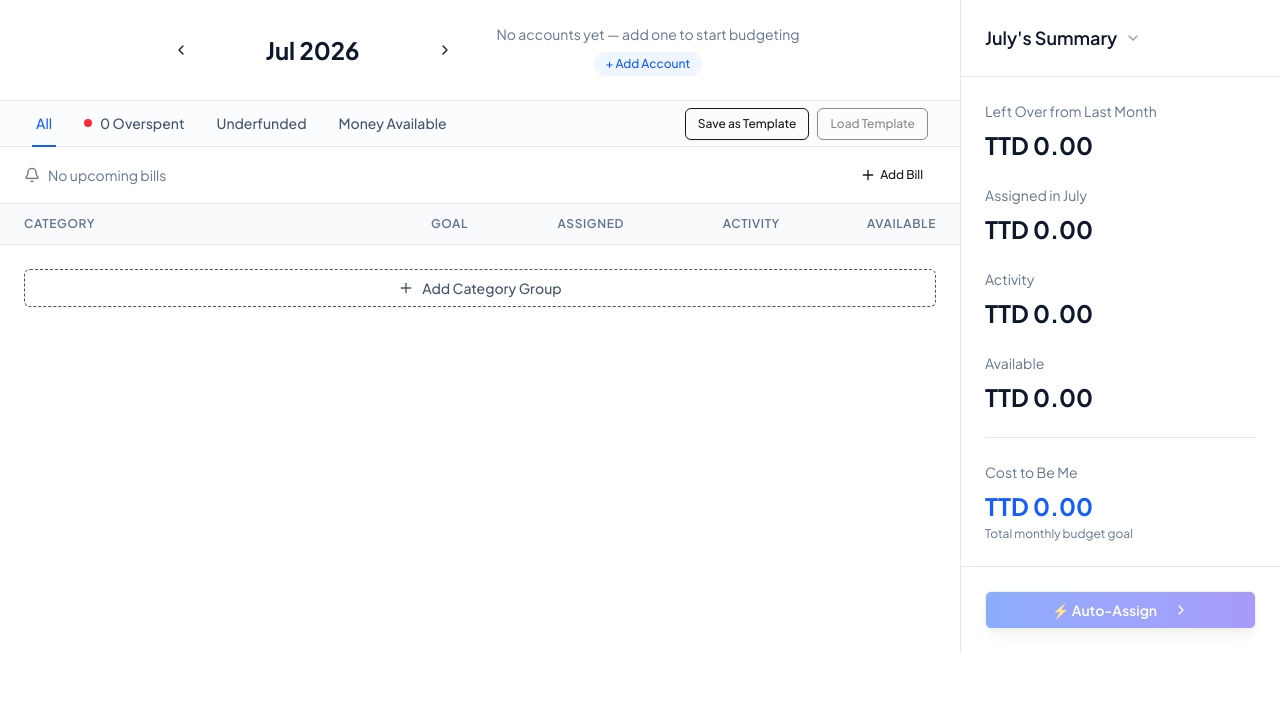
Scenario: Budget Component › Category Group Creation › opens modal when Add Category Group button is clicked
The image size is (1280, 720).
The Add Category Group button is clicked
Click the button "Add Category Group" at (480, 288), box [24,269,936,307]
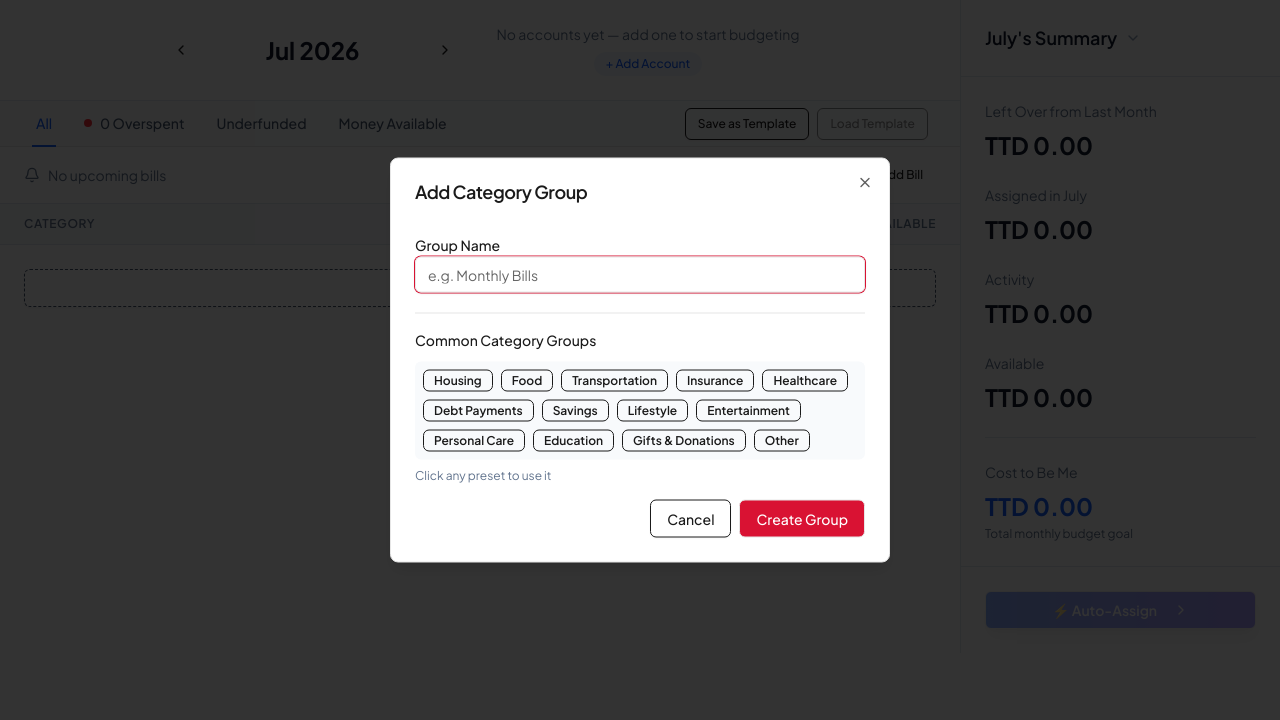
Now the dialog is shown, box [390,158,890,562]
Now the heading "Add Category Group" is shown, box [415,180,587,202]
Now the field with placeholder "e.g. Monthly Bills" is empty, box [415,256,865,292]
